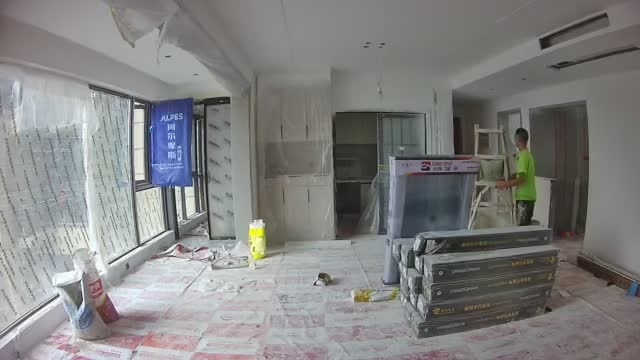people: (496, 128, 537, 225)
window: (1, 60, 235, 356)
